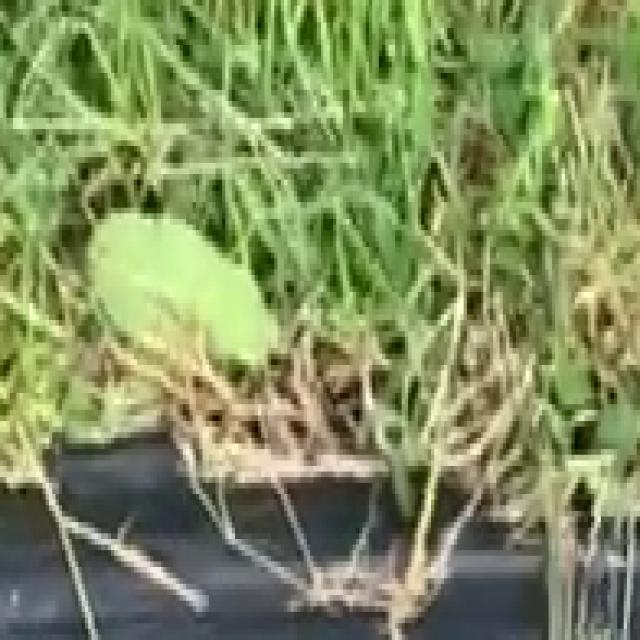organic waste: (26, 107, 310, 404)
